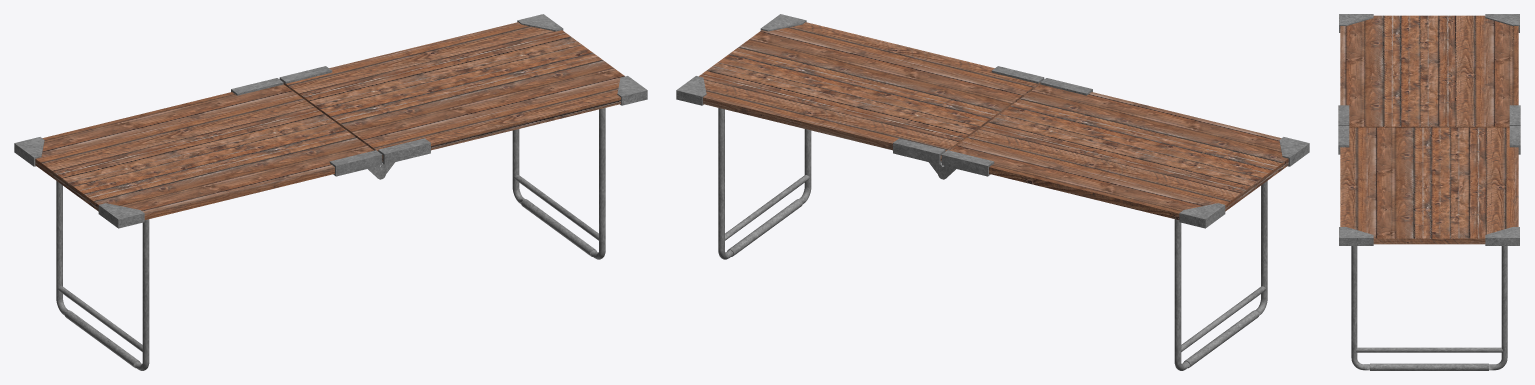
File: BreakableTable.fbx
3 renders of one model, left to right at view 1: azimuth 30°, elevation 25°; view 2: azimuth 150°, elevation 25°; view 3: azimuth 270°, elevation 25°, orthographic. The views are drawn at different scales.
Parts seen in each view (by area): view 1: LowPoly.002, LowPoly.002_cell.013, LowPoly.002_cell.026, LowPoly.002_cell.019, LowPoly.002_cell.014, LowPoly.002_cell.022, LowPoly.002_cell.012, LowPoly.002_cell.003, LowPoly.002_cell.031, LowPoly.002_cell.028; view 2: LowPoly.002, LowPoly.002_cell.013, LowPoly.002_cell.026, LowPoly.002_cell.019, LowPoly.002_cell.014, LowPoly.002_cell.022, LowPoly.002_cell.003; view 3: LowPoly.002, LowPoly.002_cell.013, LowPoly.002_cell.024, LowPoly.002_cell.026, LowPoly.002_cell.011, LowPoly.002_cell.014.
Part boxes in pixels (<box>): LowPoly.002: <box>14,14,647,370</box>; LowPoly.002_cell.013: <box>163,84,332,142</box>; LowPoly.002_cell.026: <box>48,137,251,219</box>; LowPoly.002_cell.019: <box>512,129,605,259</box>; LowPoly.002_cell.014: <box>283,78,356,121</box>; LowPoly.002_cell.022: <box>57,232,149,370</box>; LowPoly.002_cell.012: <box>599,108,605,225</box>; LowPoly.002_cell.003: <box>514,175,598,240</box>; LowPoly.002_cell.031: <box>378,138,430,163</box>; LowPoly.002_cell.028: <box>238,142,334,193</box>; LowPoly.002: <box>676,14,1309,370</box>; LowPoly.002_cell.013: <box>954,117,1091,189</box>; LowPoly.002_cell.026: <box>1084,136,1288,199</box>; LowPoly.002_cell.019: <box>719,160,811,259</box>; LowPoly.002_cell.014: <box>926,110,994,150</box>; LowPoly.002_cell.022: <box>1176,270,1267,369</box>; LowPoly.002_cell.003: <box>725,175,809,240</box>; LowPoly.002: <box>1338,14,1520,370</box>; LowPoly.002_cell.013: <box>1424,78,1518,127</box>; LowPoly.002_cell.024: <box>1465,185,1518,244</box>; LowPoly.002_cell.026: <box>1341,15,1471,85</box>; LowPoly.002_cell.011: <box>1373,182,1467,244</box>; LowPoly.002_cell.014: <box>1424,127,1509,136</box>.
Bounding box in the file's own units: 341 × 307 × 991.
